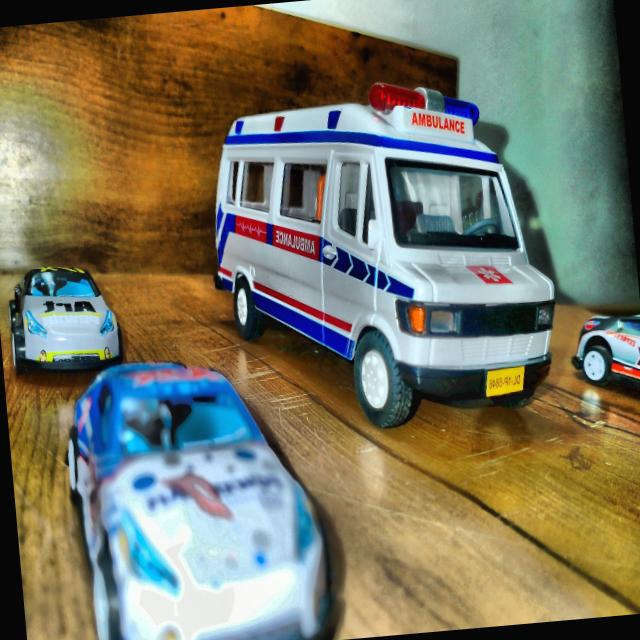Ambulance: (220, 54, 567, 437)
Car: (5, 262, 124, 376), (568, 311, 640, 392)
